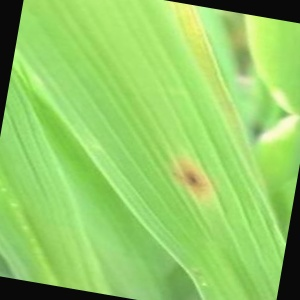Bacterial_Leaf_Blight: (172, 159, 214, 195)
